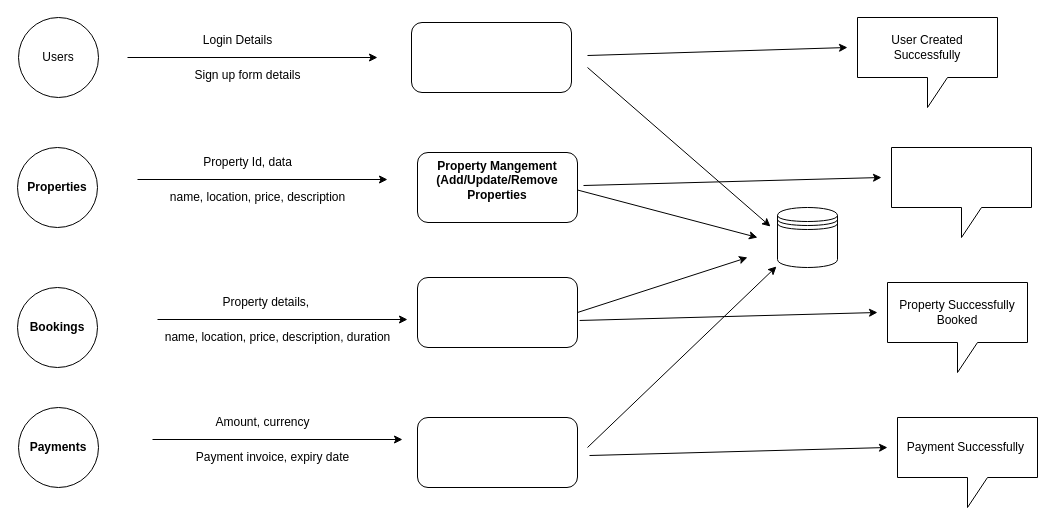
Some shapes in this 1055 by 525 pixel diagram are drawn without their labels. Each missing label, with the centre of its shape:
Authentication (User Registration/Login): point 491,57
Booking System (Search/Book Properties): point 497,312
Payment System (Make Payment/Process Refunds): point 497,452
Property Successfully Added: point 961,192
